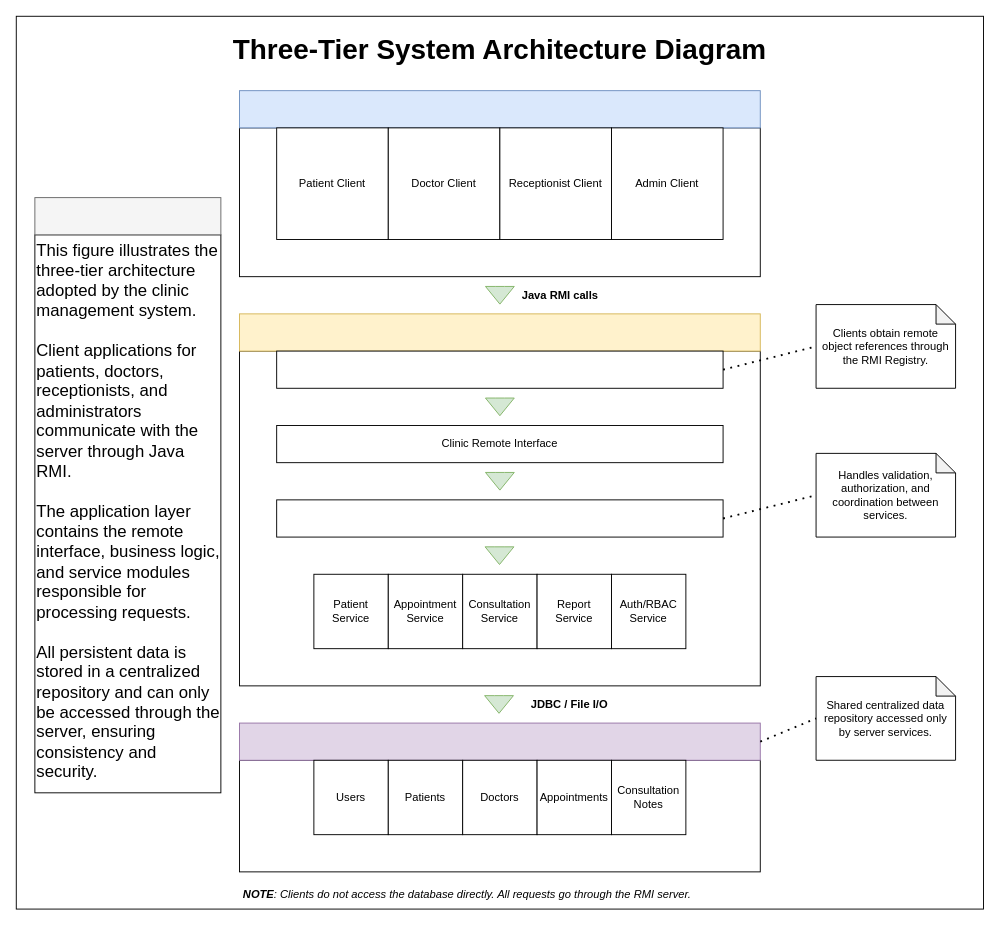
Some shapes in this 1000 by 925 pixel diagram are drawn without their labels. The shapes that lost their labels are listed below. From the top down, each one's centre as x and y in pixels, then its label:
At point (499, 109): "Presentation Layer".
At point (127, 216): "Explanation".
At point (499, 332): "Application Layer".
At point (499, 369): "RMI Registry".
At point (499, 518): "Clinic Server Implementation / Business Logic".
At point (499, 741): "Data Layer / Centralized Storage".
